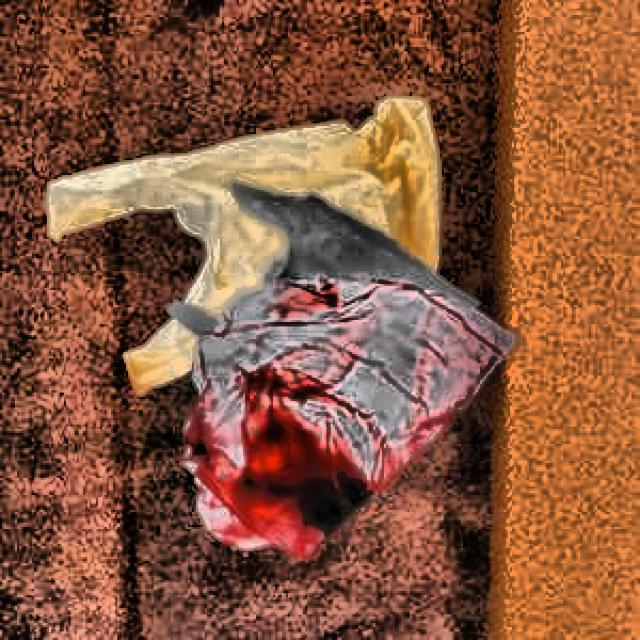Plastic: (161, 183, 512, 574), (38, 93, 455, 397)
